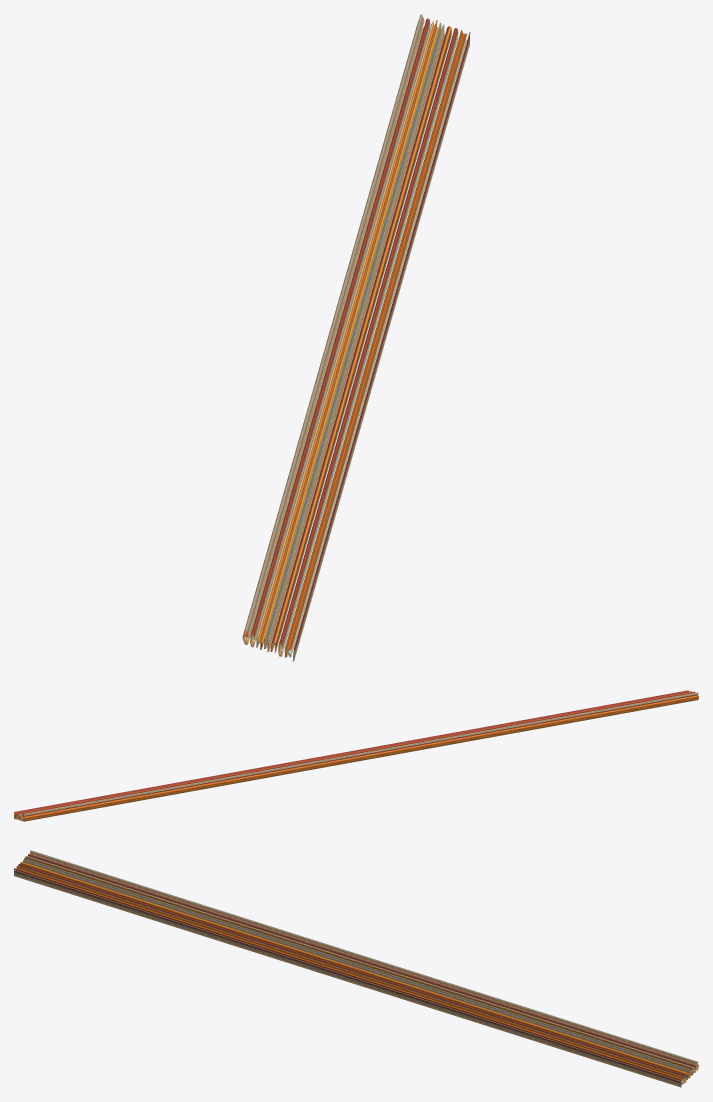
The model's file is bg_schnuck.glb.
The picture shows the model from 3 angles, top to bottom: view 1: azimuth 30°, elevation 25°; view 2: azimuth 150°, elevation 25°; view 3: azimuth 270°, elevation 25°; orthographic projection. The views are drawn at different scales.
Parts seen in each view (by area): view 1: Text; view 2: Text; view 3: Text.
Boxes of the visible parts, x1=… form: Text: x1=242, y1=14, x2=470, y2=661; Text: x1=14, y1=690, x2=698, y2=821; Text: x1=14, y1=850, x2=698, y2=1087.
Bounding box in the file's own units: 4.43 × 0.156 × 5.79.
Materials: 1 (1 with a texture image).
